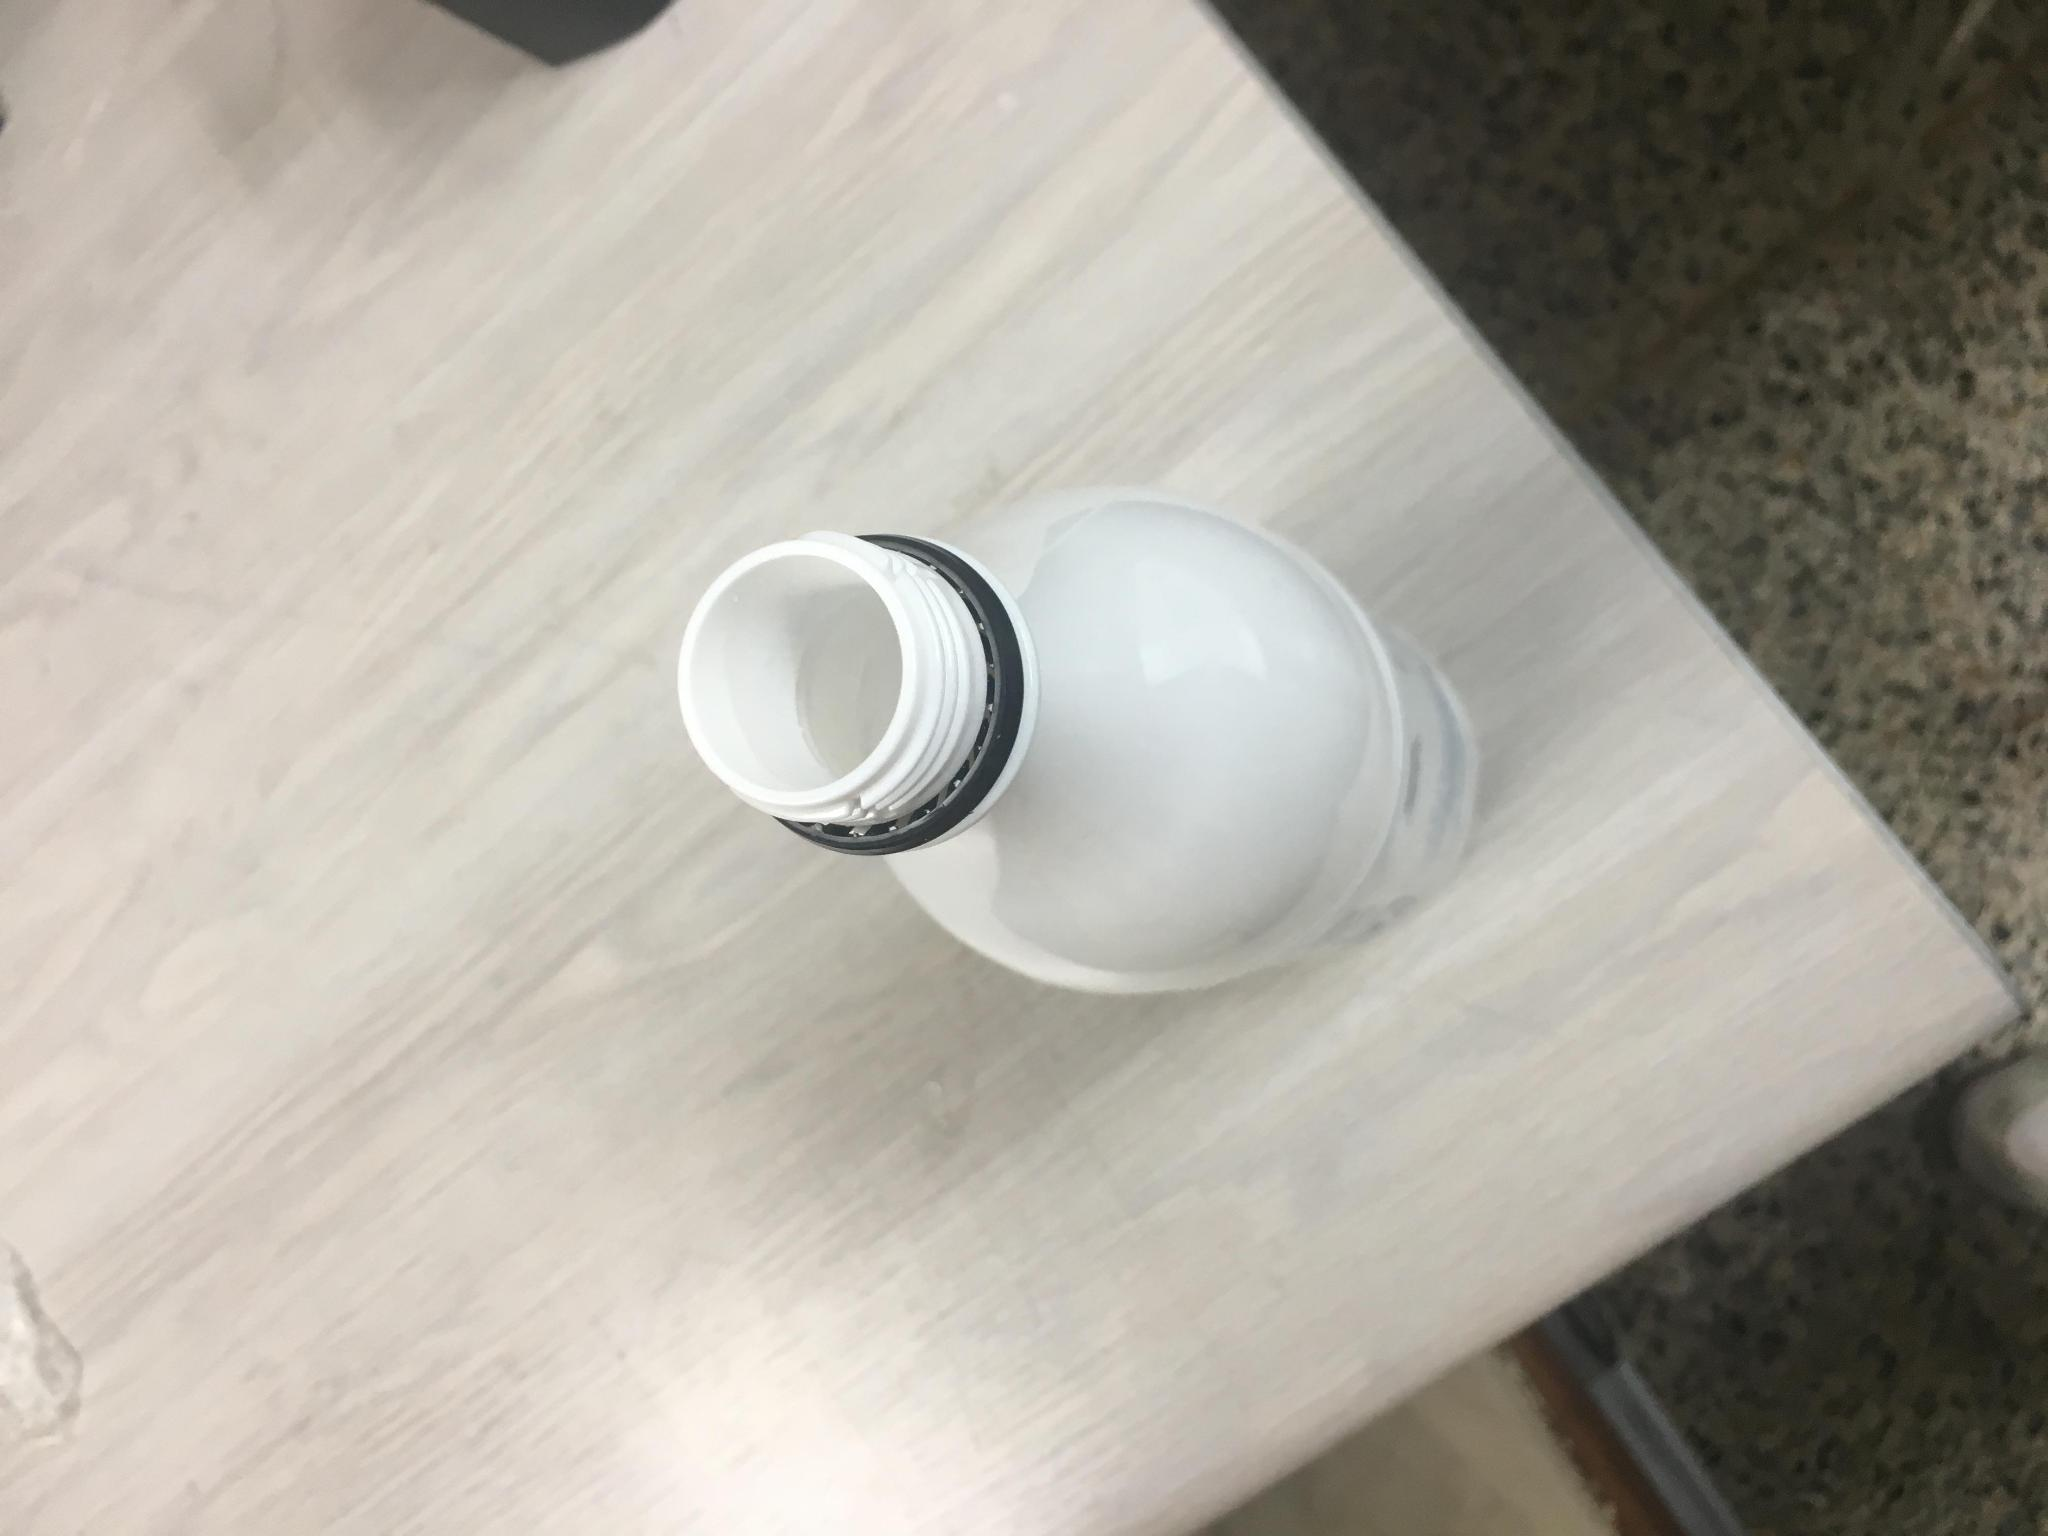bottle: (584, 497, 1508, 1118)
